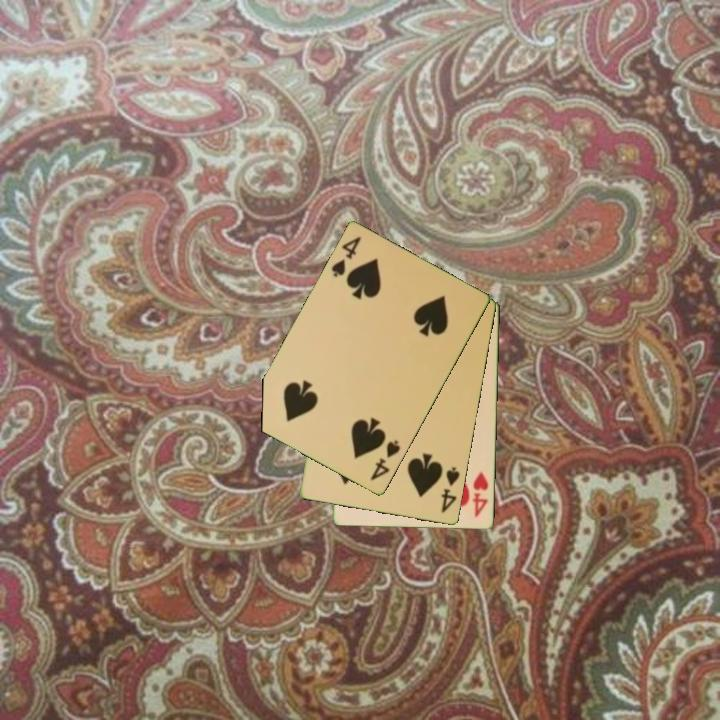4h: (469, 469, 491, 520)
4s: (367, 436, 403, 484), (328, 234, 364, 280), (438, 464, 463, 516)
